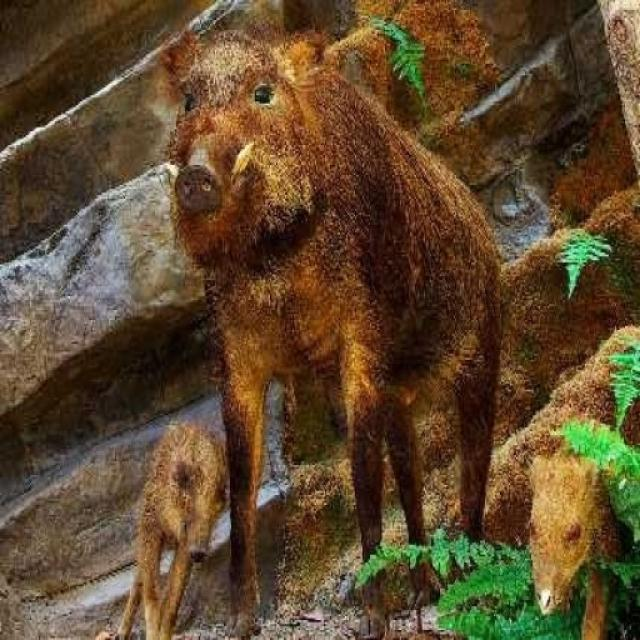pig: (66, 0, 640, 624)
